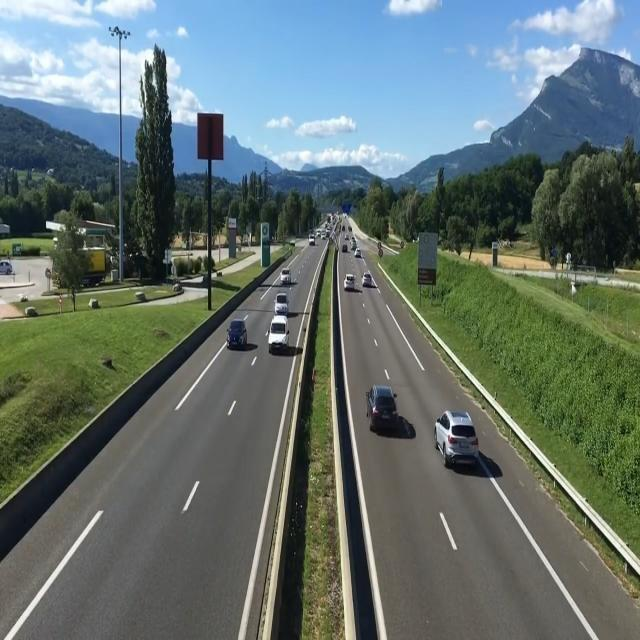Car: (434, 410, 480, 468), (367, 384, 399, 430), (225, 318, 247, 349), (274, 292, 289, 316), (279, 268, 291, 284), (343, 274, 355, 290), (361, 273, 372, 288)
Truck: (309, 232, 316, 247)
Van: (267, 315, 289, 352)
